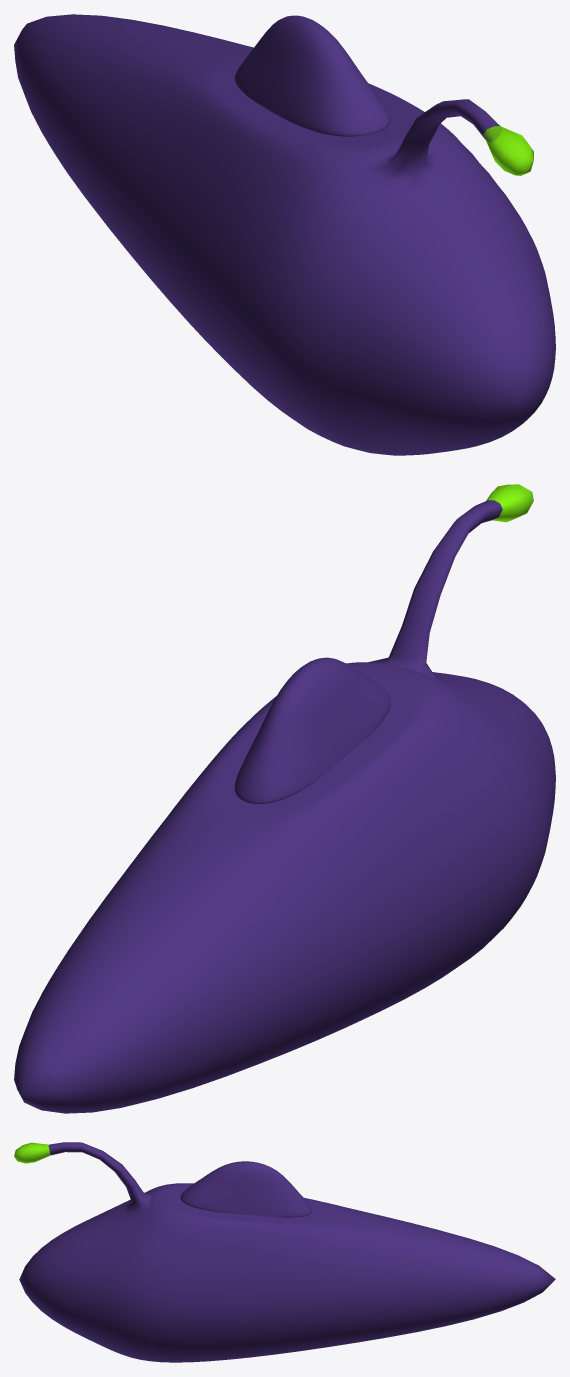
Rendered from smallFish.fbx.
The picture shows the model from 3 angles, top to bottom: view 1: azimuth 30°, elevation 25°; view 2: azimuth 150°, elevation 25°; view 3: azimuth 270°, elevation 25°; orthographic projection. The views are drawn at different scales.
Parts seen in each view (by area): view 1: polySurface2; view 2: polySurface2; view 3: polySurface2.
Boxes of the visible parts, x1,y1,x2,y2 form: polySurface2: (14,14,555,455); polySurface2: (14,484,555,1113); polySurface2: (14,1142,555,1362).
Bounding box in the file's own units: 10.32 × 14.58 × 33.83.
